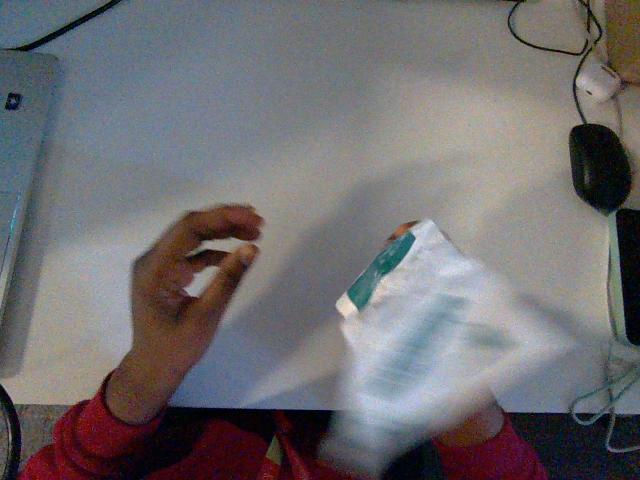gallipot: (321, 220, 572, 476)
